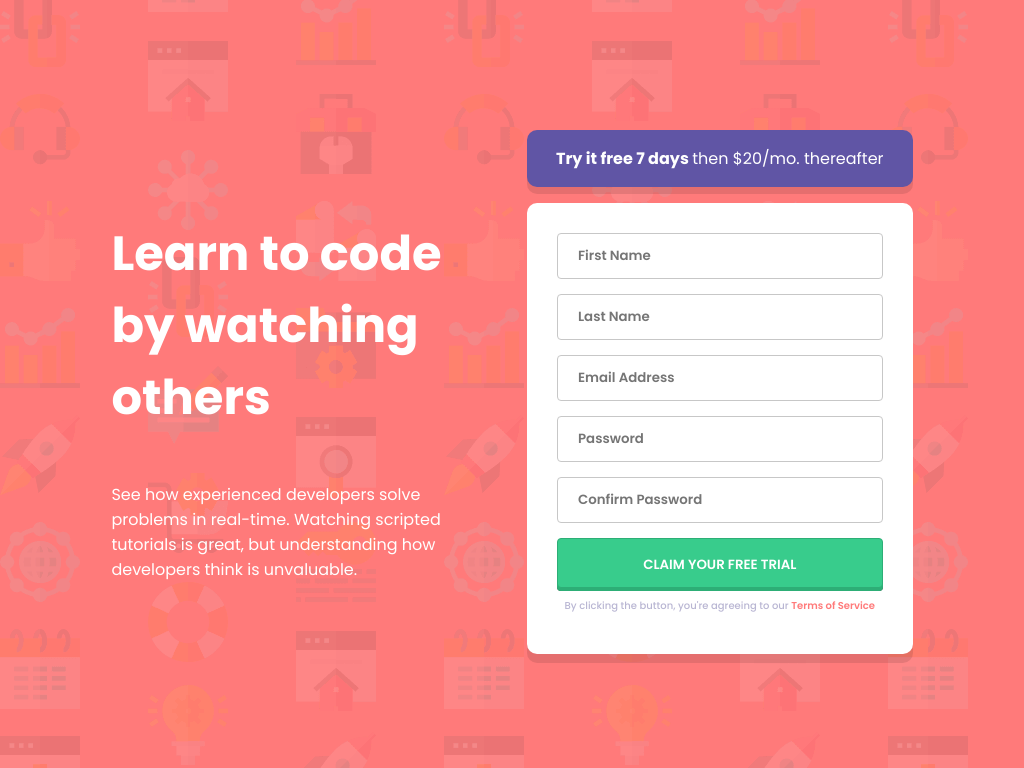
it: Signup form: expected to show message when fields are empty
This screenshot has width=1024, height=768.
What coordinates should you click on to do the following:
click the button showing "CLAIM YOUR FREE TRIAL"
I would click on:
 (720, 563)
Its box is [557,538,883,588].
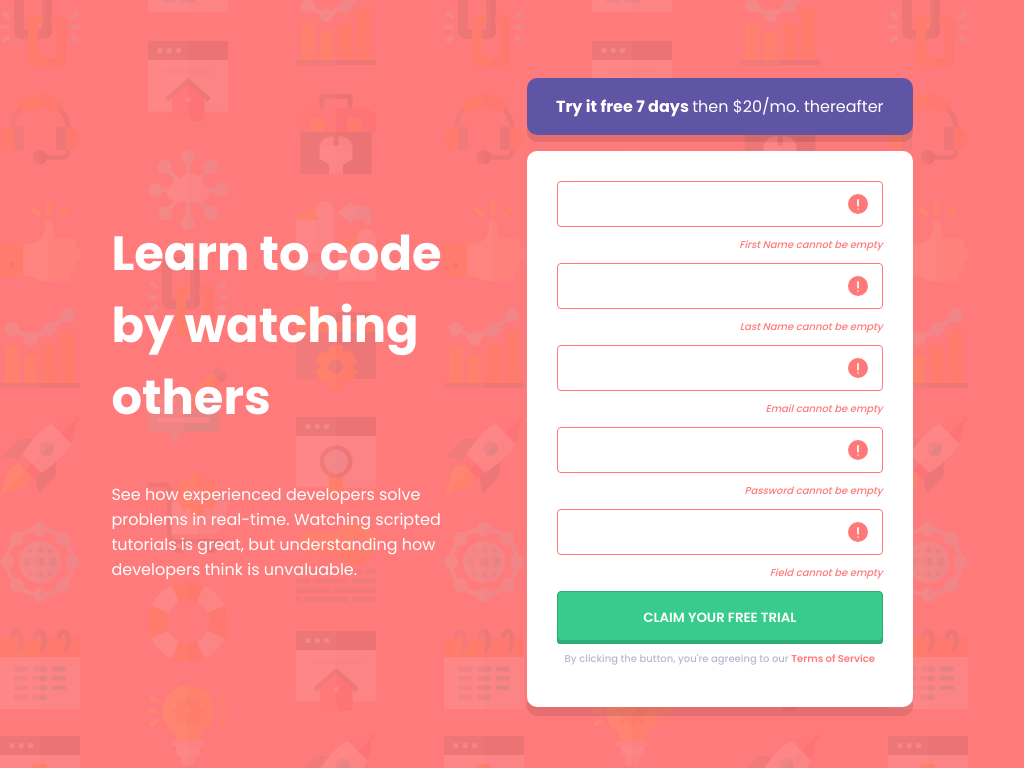
Result: the text "First Name cannot be empty" is shown at [739,236,883,252]
Result: the text "Last Name cannot be empty" is shown at [740,318,883,334]
Result: the text "Email cannot be empty" is shown at [765,400,883,416]
